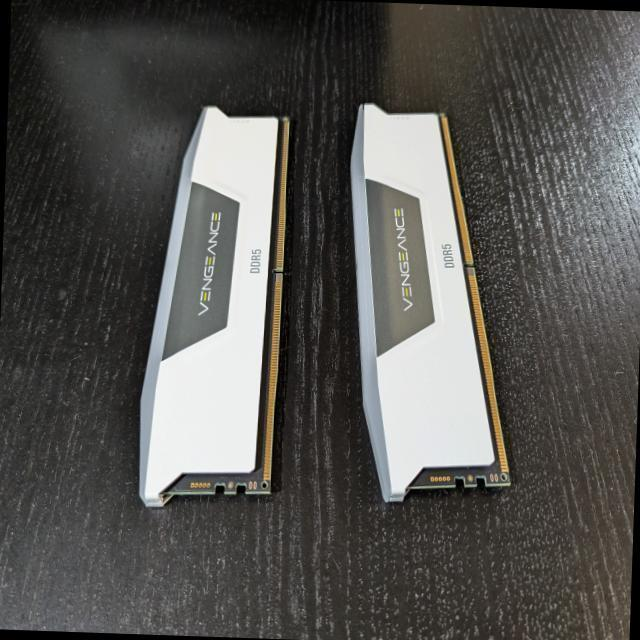RAM: (330, 103, 522, 508), (137, 103, 292, 513)
